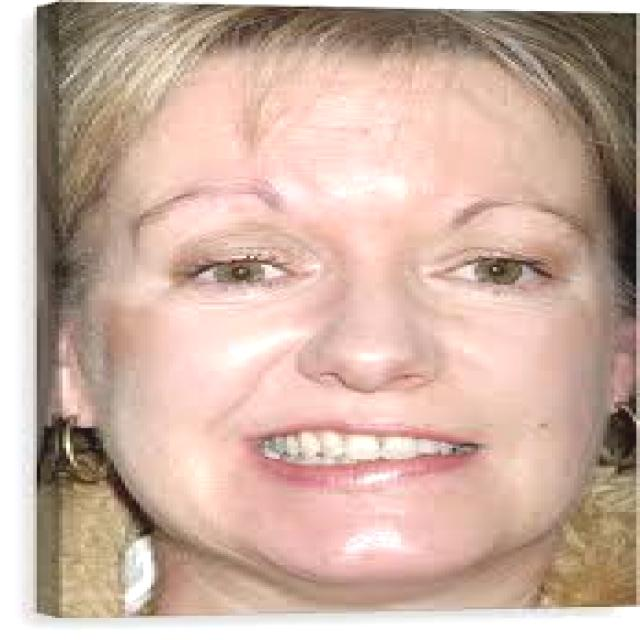stroke_face: (94, 62, 581, 597)
